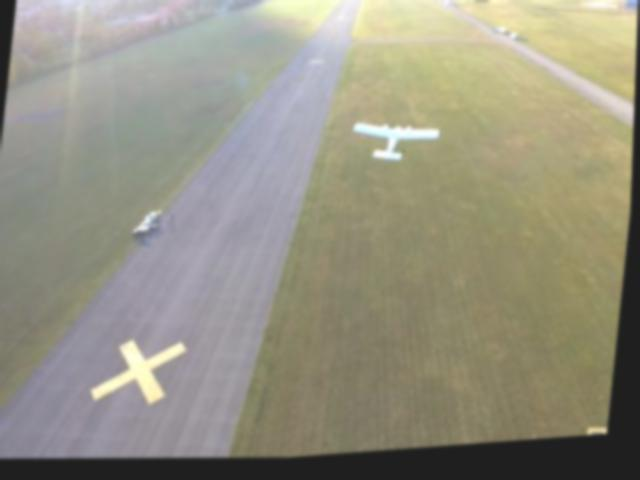uav: (350, 122, 442, 172)
